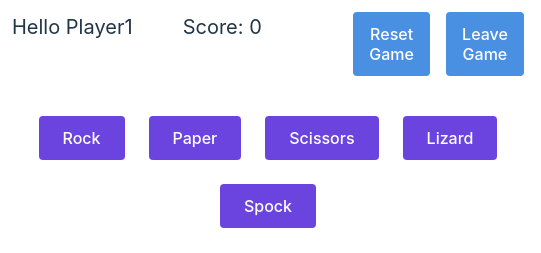
Scenario: Game Component › Play the game › should show turn result after clicking a play button
# Click the Rock button
Click the button "Rock" at (82, 138), box [38,116,124,160]
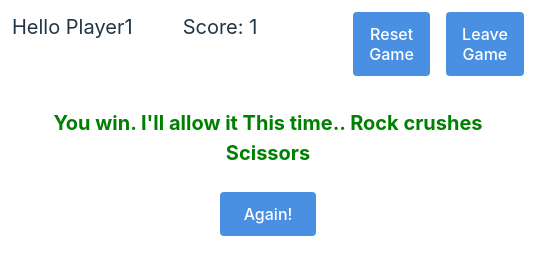
Now the element with test id "turn-result" is shown, box [53,111,482,236]
Now the text "You win. I'll allow it This time.. Rock crushes Scissors" is shown, box [53,111,482,165]
Now the button "Again!" is shown, box [220,192,316,236]
